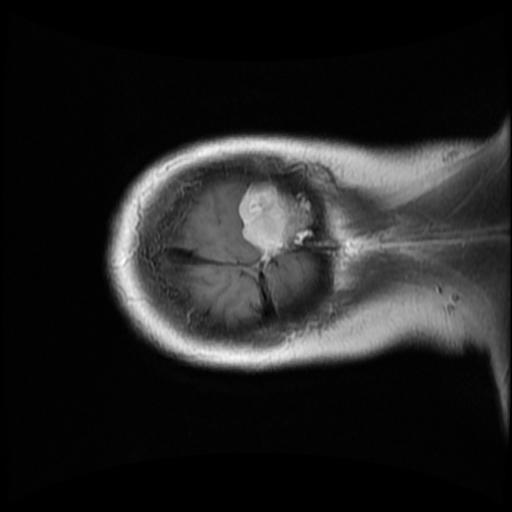meningioma: (237, 180, 315, 263)
